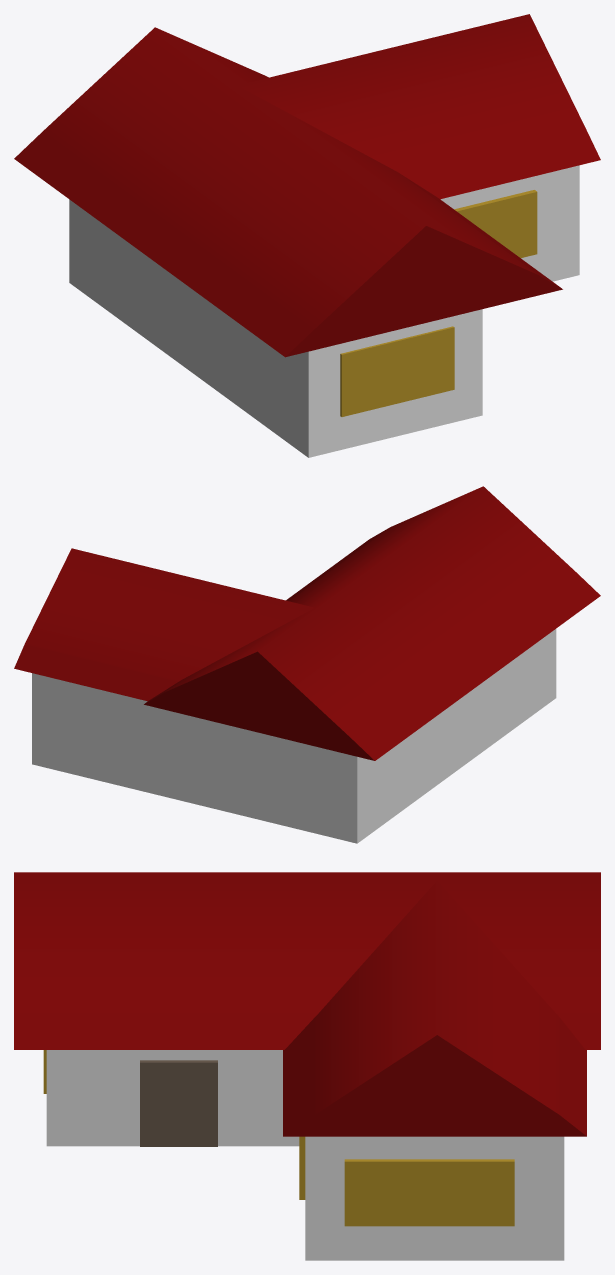
Rendered from House G.fbx.
The picture shows the model from 3 angles, top to bottom: view 1: azimuth 30°, elevation 25°; view 2: azimuth 150°, elevation 25°; view 3: azimuth 270°, elevation 25°; orthographic projection. The views are drawn at different scales.
Parts seen in each view (by area): view 1: pCube2, pCube1, pasted__pCube2, pCube5, pCube4; view 2: pCube2, pCube1, pasted__pCube2; view 3: pCube2, pasted__pCube2, pCube1, pCube6, pCube3.
Part boxes in pixels (left/top/right/bottom): pCube2: left=14, top=27, right=562, bottom=357; pCube1: left=69, top=165, right=579, bottom=457; pasted__pCube2: left=237, top=14, right=600, bottom=199; pCube5: left=340, top=326, right=454, bottom=416; pCube4: left=454, top=190, right=537, bottom=257; pCube2: left=144, top=486, right=600, bottom=760; pCube1: left=32, top=629, right=556, bottom=843; pasted__pCube2: left=14, top=548, right=314, bottom=701; pCube2: left=14, top=872, right=600, bottom=1049; pasted__pCube2: left=283, top=880, right=586, bottom=1136; pCube1: left=46, top=1050, right=564, bottom=1260; pCube6: left=344, top=1159, right=514, bottom=1226; pCube3: left=140, top=1060, right=217, bottom=1146.
Bounding box in the file's own units: 17.22 × 8.16 × 18.38.
